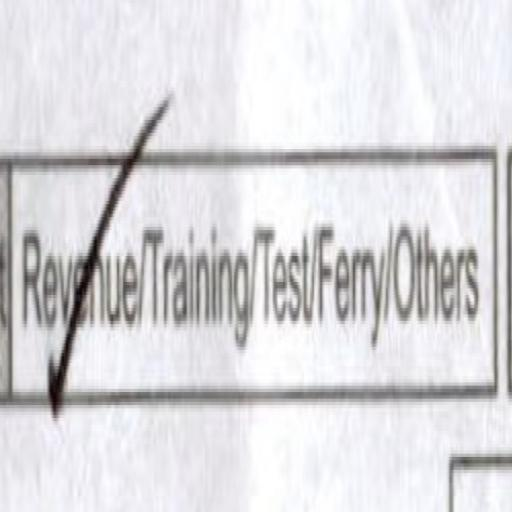check: (14, 100, 149, 456)
